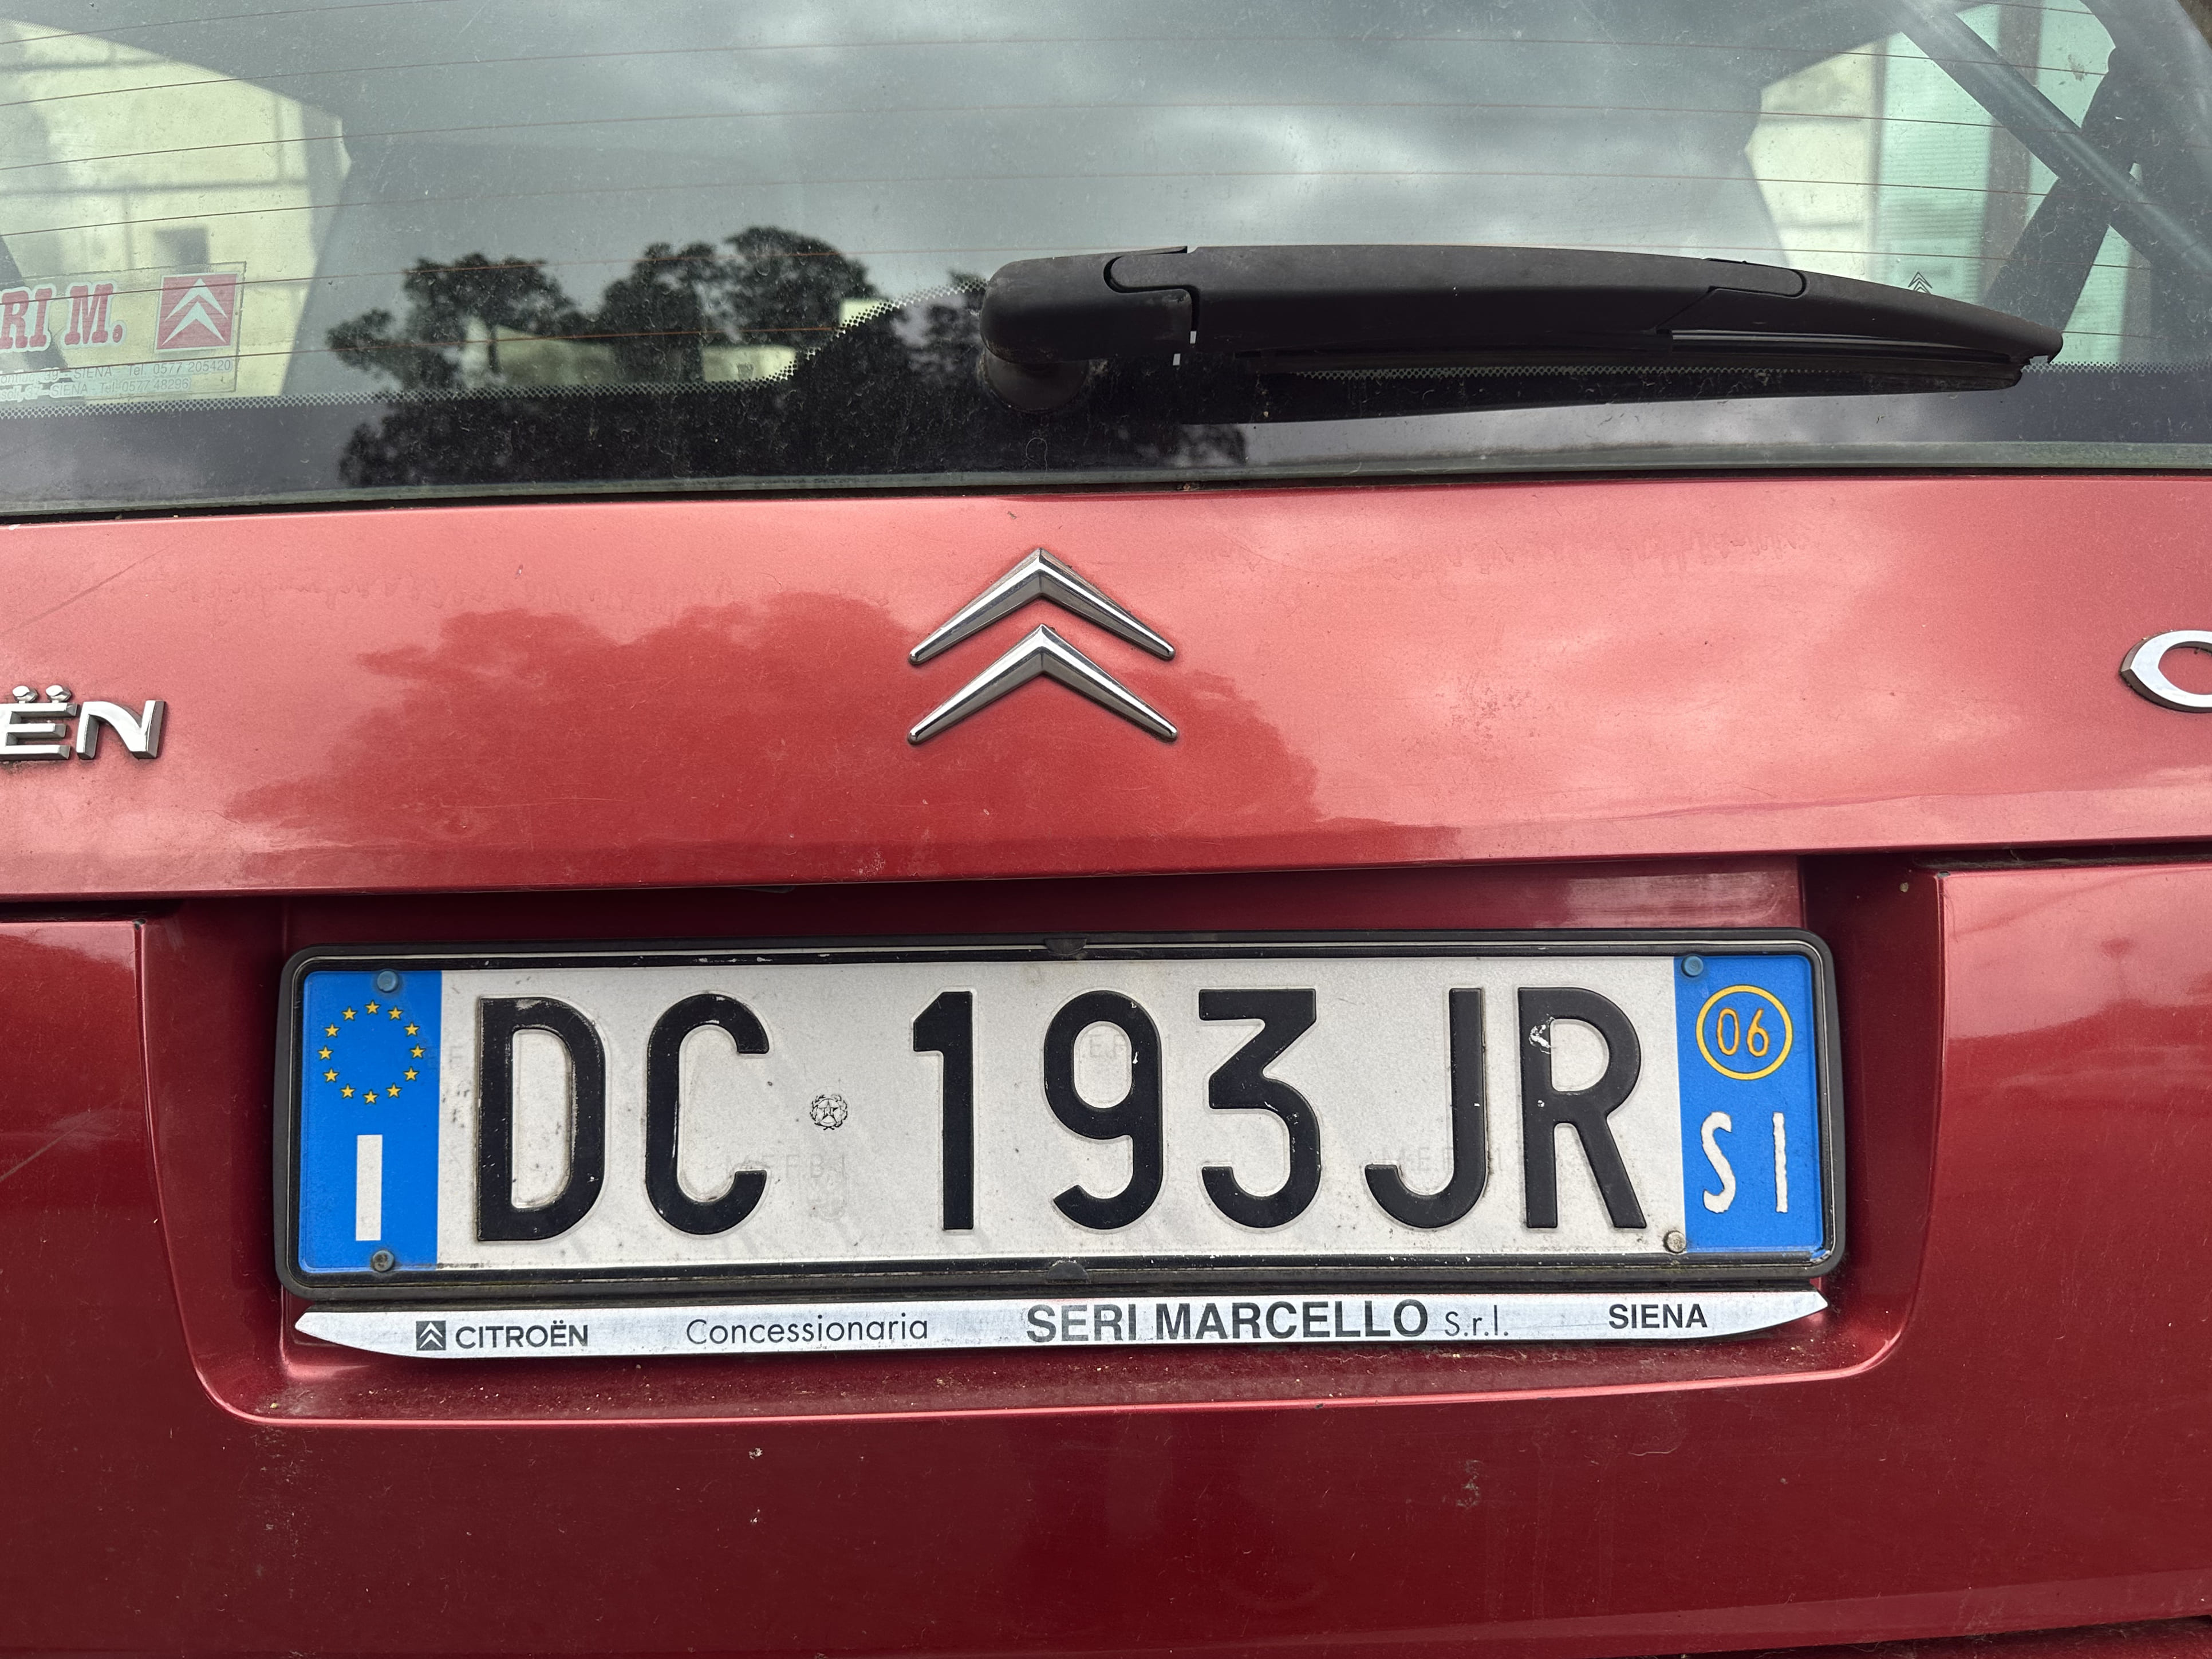license-plate: (284, 935, 1846, 1289)
